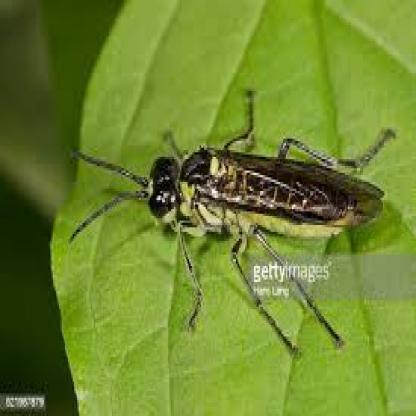sawfly: (67, 82, 396, 351)
